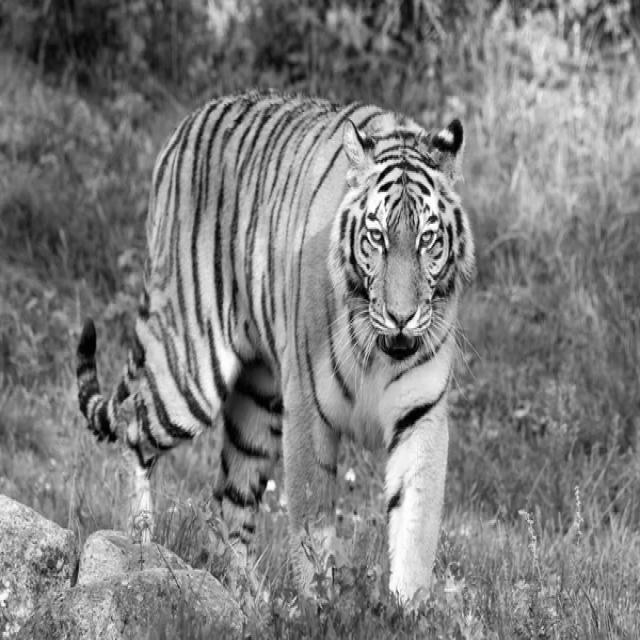Animal: (77, 90, 474, 600)
Stone: (22, 531, 244, 640), (1, 496, 80, 640)
